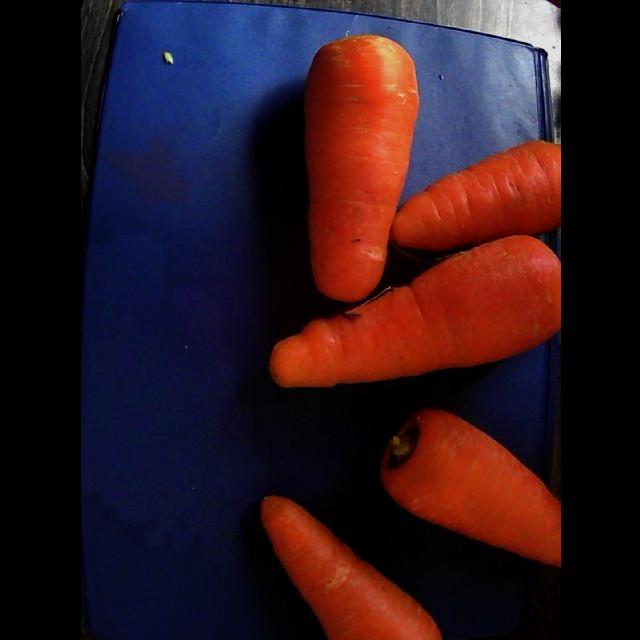zanahoria: (269, 236, 560, 388), (304, 36, 418, 301), (380, 410, 560, 568), (261, 496, 441, 640), (391, 142, 560, 250)
